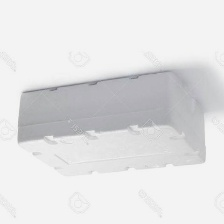foam_box: (12, 66, 209, 182)
